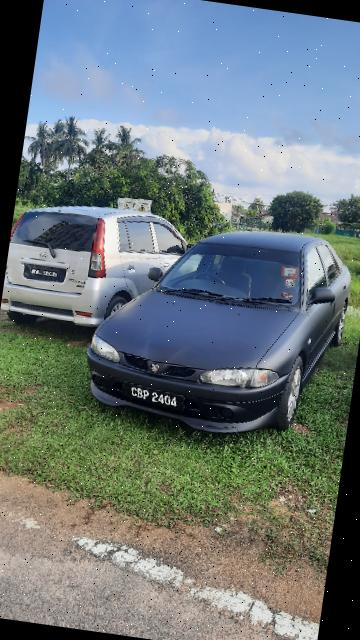License_Plate: (124, 381, 192, 420), (23, 263, 68, 287)
car: (78, 206, 358, 454), (1, 184, 200, 345)
